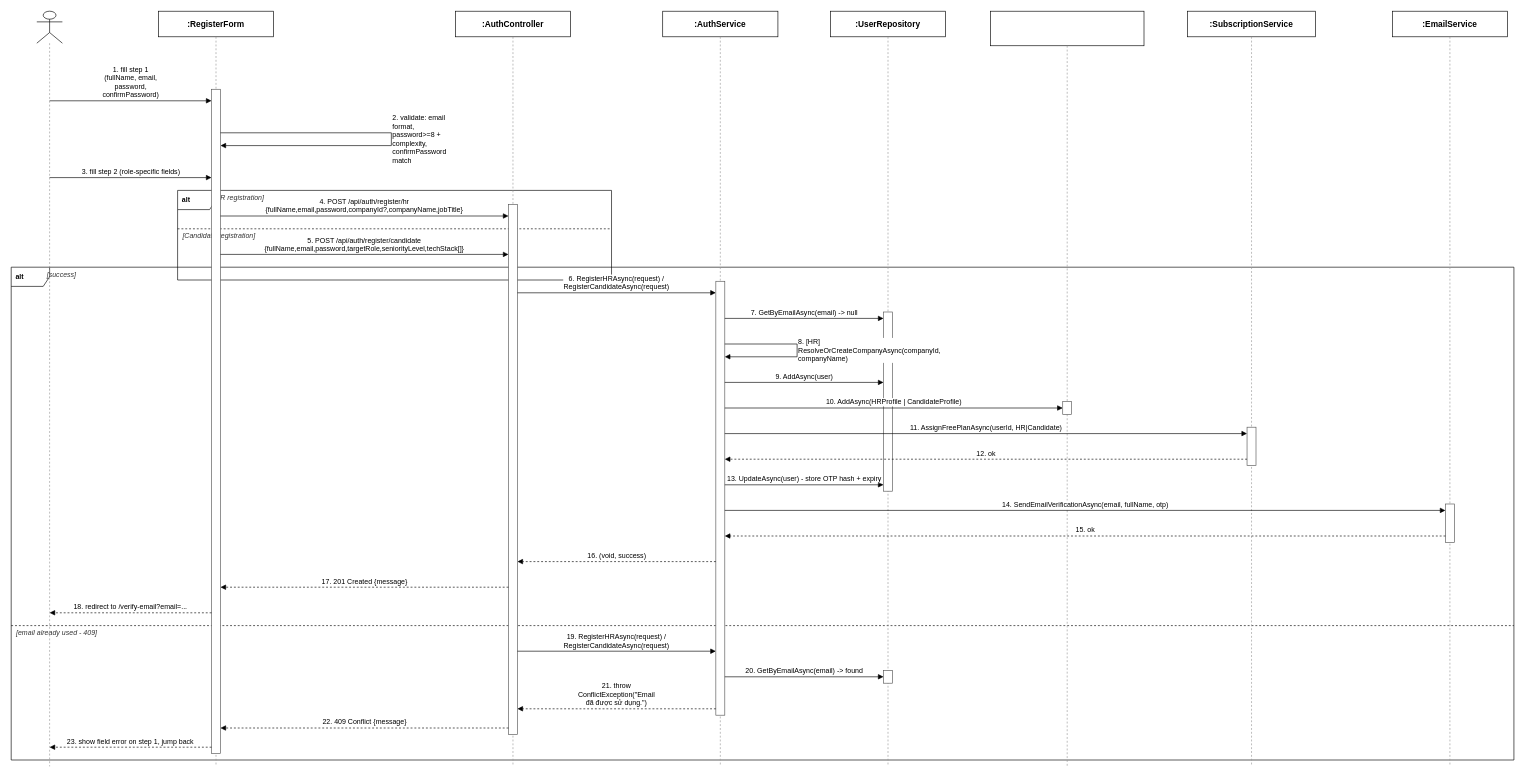
Image size: 1526x778. Some labels were removed from this diagram. Here are the shapes that lost their labels. From the top down, the centre of each, then its label:
At (49,27): "User".
At (1067,28): ":HRProfileRepository / CandidateProfileRepository".
